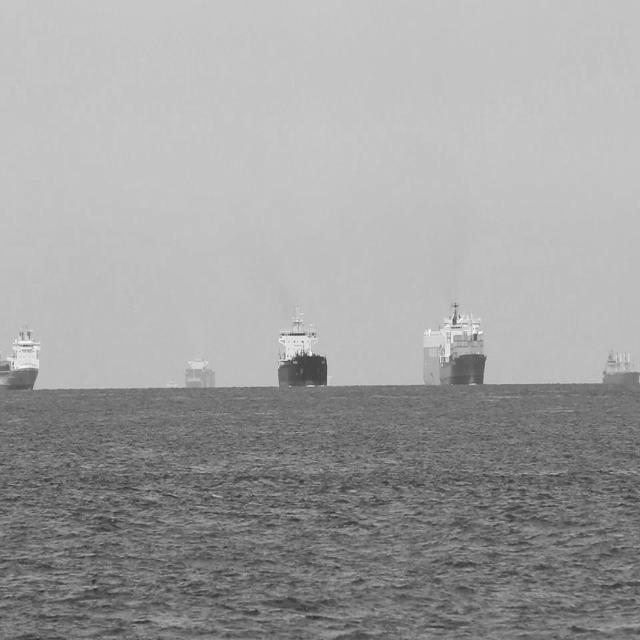ship: (422, 303, 488, 390), (277, 304, 328, 392), (0, 322, 42, 396), (602, 347, 639, 387), (187, 357, 216, 393), (166, 375, 186, 393)
